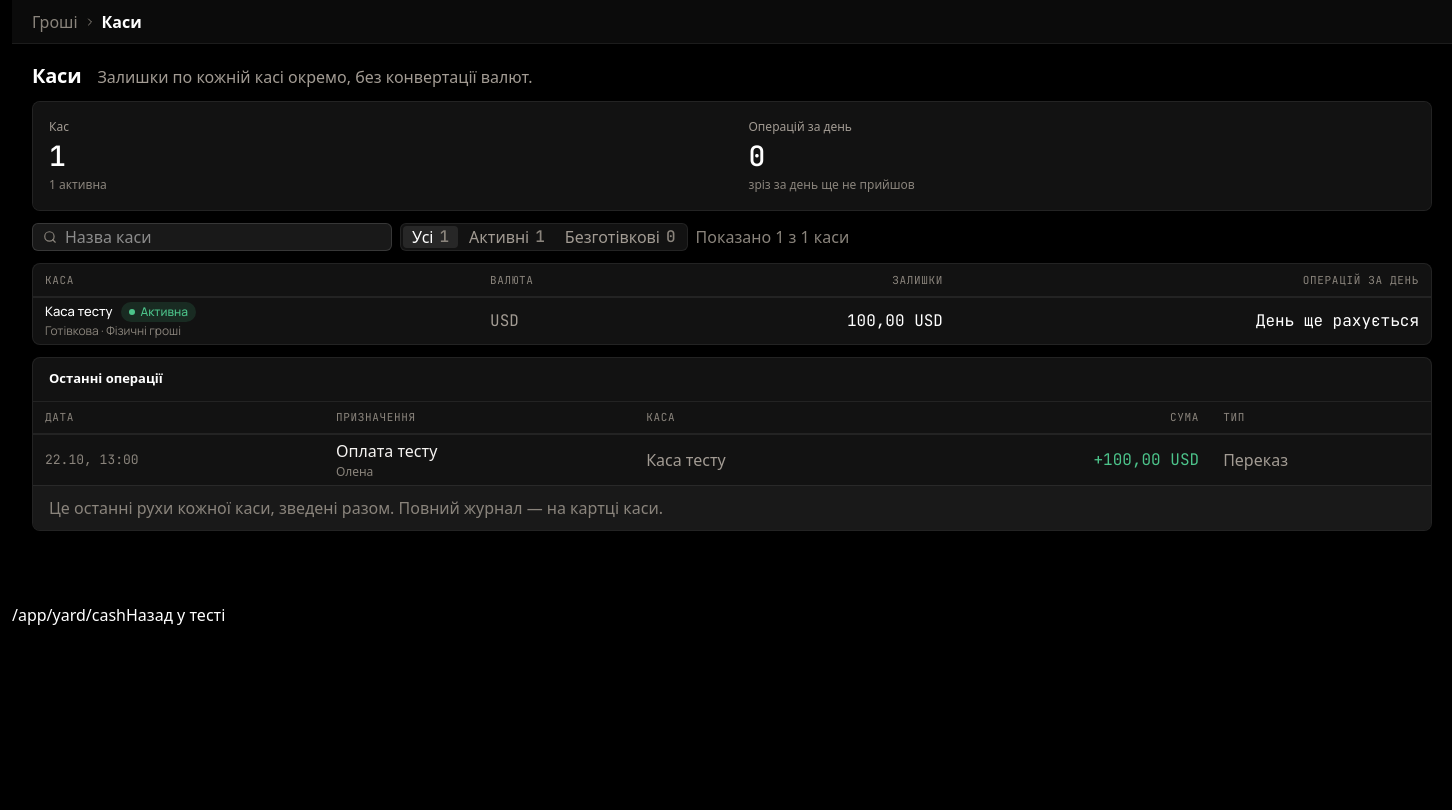
opens the till for a transfer_in feed entry instead of treating its reference as an order
Click the text "Оплата тесту" at (732, 460), box [33, 434, 1431, 485]
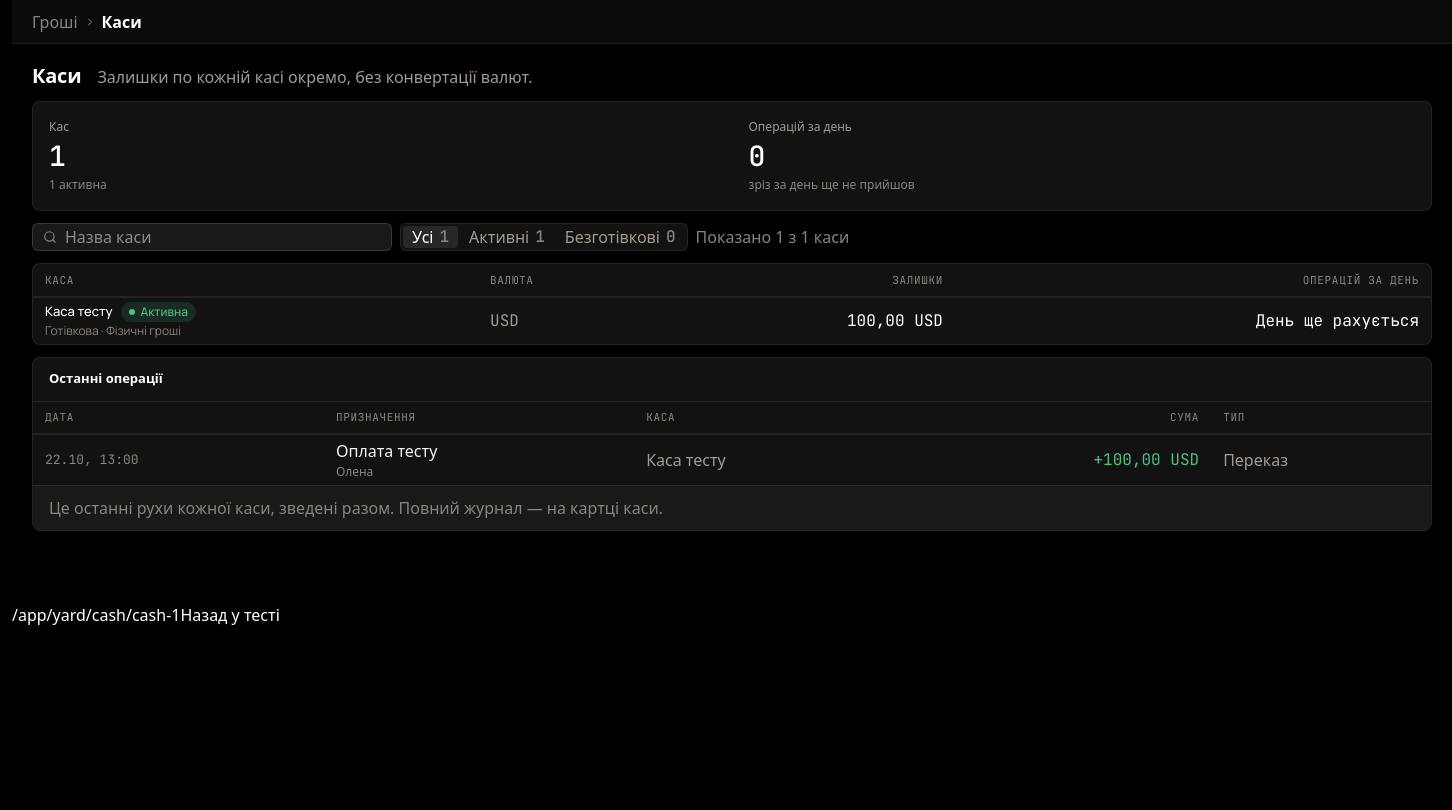
Expected: the text named "Маршрут" reads "/app/yard/cash/cash-1", [12, 604, 180, 626]
